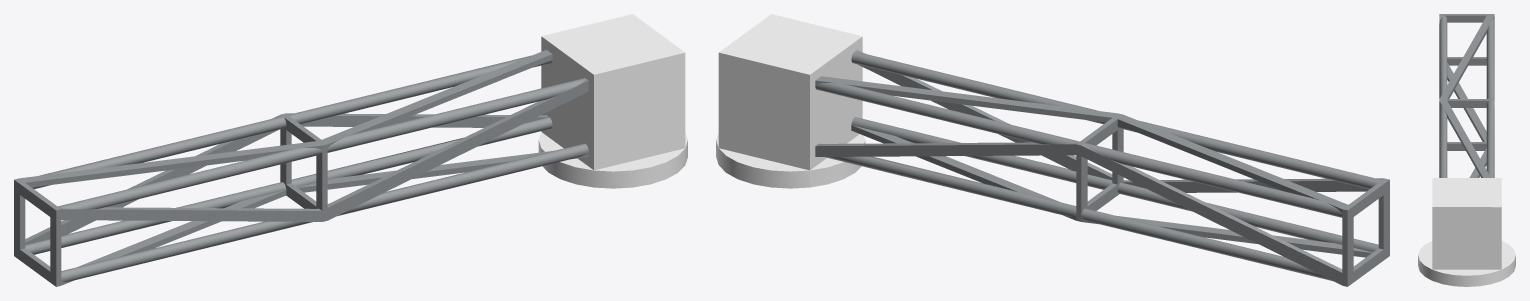
The model's file is crane.obj.
3 views of the same model, side by side, from view 1: azimuth 30°, elevation 25°; view 2: azimuth 150°, elevation 25°; view 3: azimuth 270°, elevation 25° (orthographic). The views are drawn at different scales.
Parts seen in each view (by area): view 1: group_0.001_ID11, group_0_ID3.001, group_0.002_ID24; view 2: group_0.001_ID11, group_0_ID3.001, group_0.002_ID24; view 3: group_0_ID3.001, group_0.001_ID11.
Part boxes in pixels (x1=…): group_0.001_ID11: x1=14, y1=49, x2=588, y2=286; group_0_ID3.001: x1=538, y1=14, x2=687, y2=188; group_0.002_ID24: x1=20, y1=195, x2=50, y2=271; group_0.001_ID11: x1=815, y1=50, x2=1389, y2=286; group_0_ID3.001: x1=716, y1=14, x2=865, y2=188; group_0.002_ID24: x1=1353, y1=195, x2=1383, y2=271; group_0_ID3.001: x1=1418, y1=178, x2=1515, y2=286; group_0.001_ID11: x1=1439, y1=14, x2=1494, y2=177.
Bounding box in the file's own units: 68.96 × 11.55 × 13.86.
